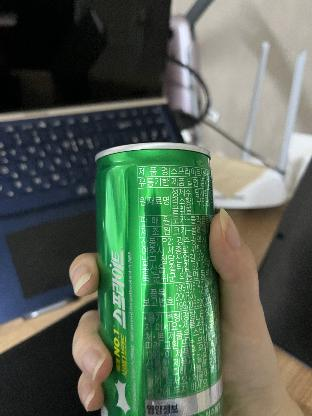Can: (90, 141, 222, 415)
